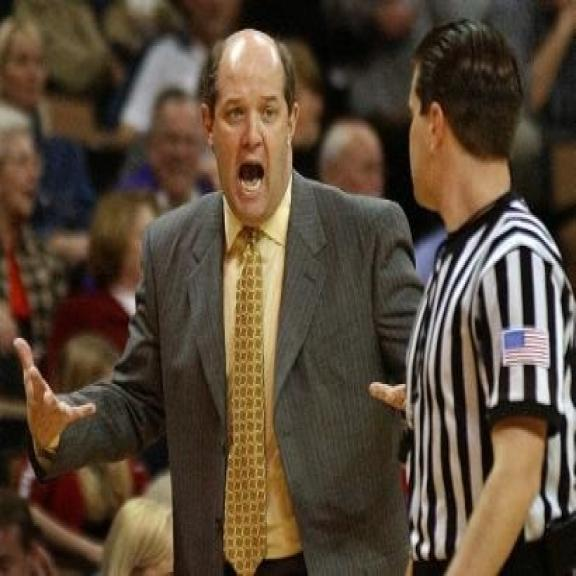face: (200, 48, 300, 220), (324, 125, 389, 206), (151, 97, 203, 192), (5, 34, 53, 110), (6, 129, 43, 218)
